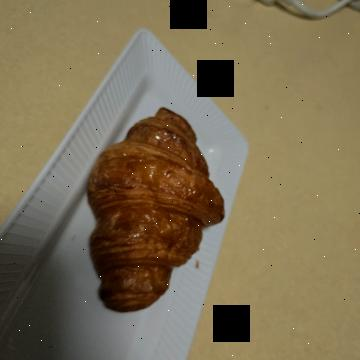croissant: (105, 128, 332, 282)
